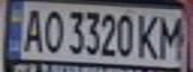0: (115, 10, 136, 58)
2: (100, 9, 121, 57)
3: (81, 8, 103, 56), (63, 7, 84, 55)
A: (18, 4, 48, 54)
K: (136, 11, 163, 61)
M: (154, 12, 190, 61)
O: (39, 6, 66, 54)
